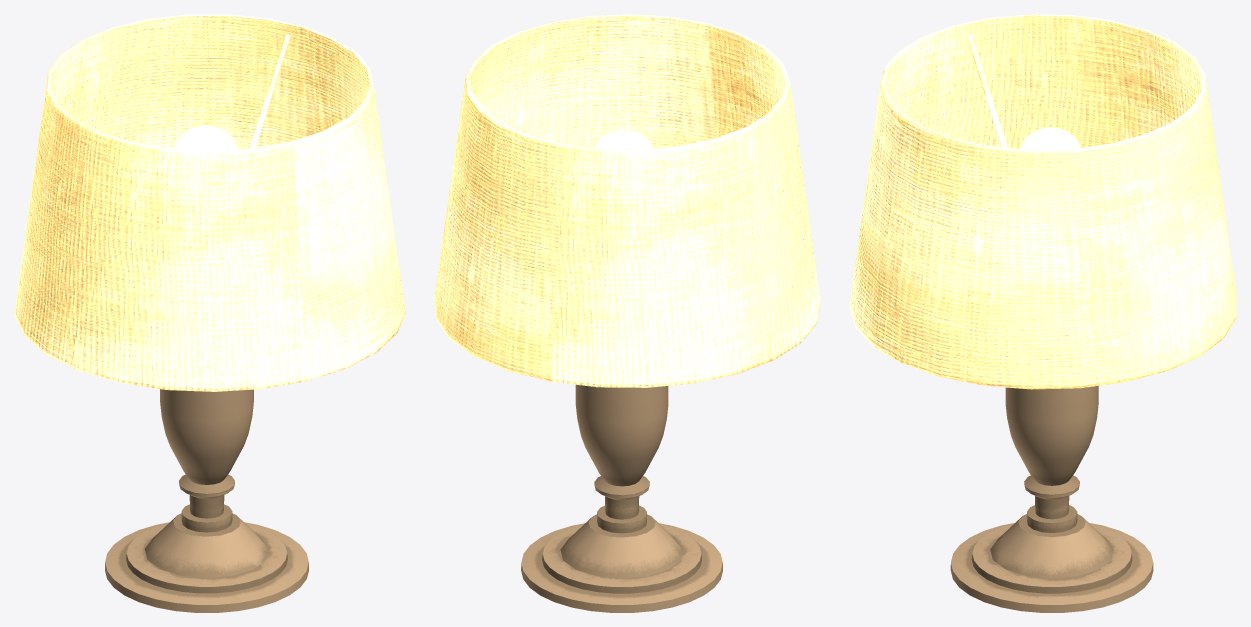
The model's file is SM_Lamp_C2.fbx.
3 renders of one model, left to right at view 1: azimuth 30°, elevation 25°; view 2: azimuth 150°, elevation 25°; view 3: azimuth 270°, elevation 25°, orthographic.
Parts seen in each view (by area): view 1: SM_Lamp_C2; view 2: SM_Lamp_C2; view 3: SM_Lamp_C2.
Boxes of the visible parts, x1,y1,x2,y2 form: SM_Lamp_C2: [14, 14, 405, 612]; SM_Lamp_C2: [434, 14, 820, 612]; SM_Lamp_C2: [849, 14, 1236, 612].
Size of the model in its own units: 32.72 by 32.62 by 45.29.
3 materials, 1 textured.
